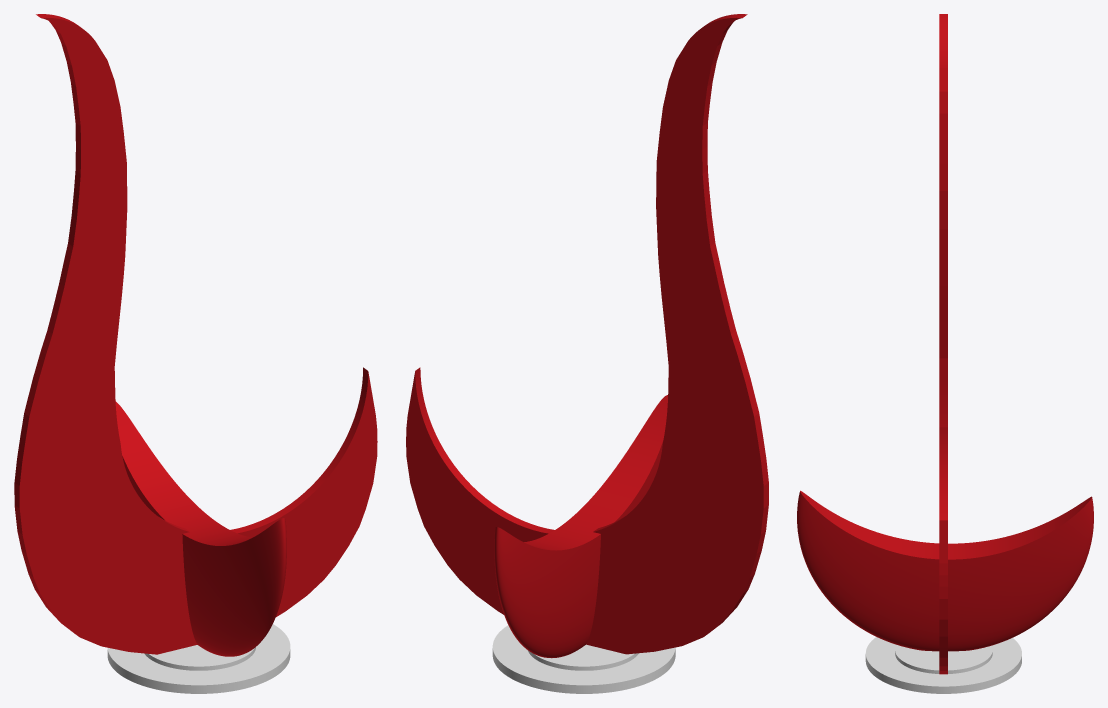
The model's file is RedBird_coloured.fbx.
The picture shows the model from 3 angles, left to right: view 1: azimuth 30°, elevation 25°; view 2: azimuth 150°, elevation 25°; view 3: azimuth 270°, elevation 25°; orthographic projection. The views are drawn at different scales.
Visible parts, largest first — view 1: Extrusion [4794], Joined Solid Geometry [4469], Extrusion [6197], Extrusion [6304]; view 2: Extrusion [4794], Joined Solid Geometry [4469], Extrusion [6197], Extrusion [6304]; view 3: Joined Solid Geometry [4469], Extrusion [4794], Extrusion [6197], Extrusion [6304].
Boxes of the visible parts, x1,y1,x2,y2 form: Extrusion [4794]: (14,14,377,654); Joined Solid Geometry [4469]: (115,401,286,656); Extrusion [6197]: (107,624,290,693); Extrusion [6304]: (144,645,255,670); Extrusion [4794]: (406,14,768,654); Joined Solid Geometry [4469]: (494,395,667,658); Extrusion [6197]: (492,625,675,693); Extrusion [6304]: (528,644,638,670); Joined Solid Geometry [4469]: (797,490,1093,651); Extrusion [4794]: (939,14,947,674); Extrusion [6197]: (865,637,1021,693); Extrusion [6304]: (895,645,992,673).
Size of the model in its own units: 903 by 1637 by 760.
